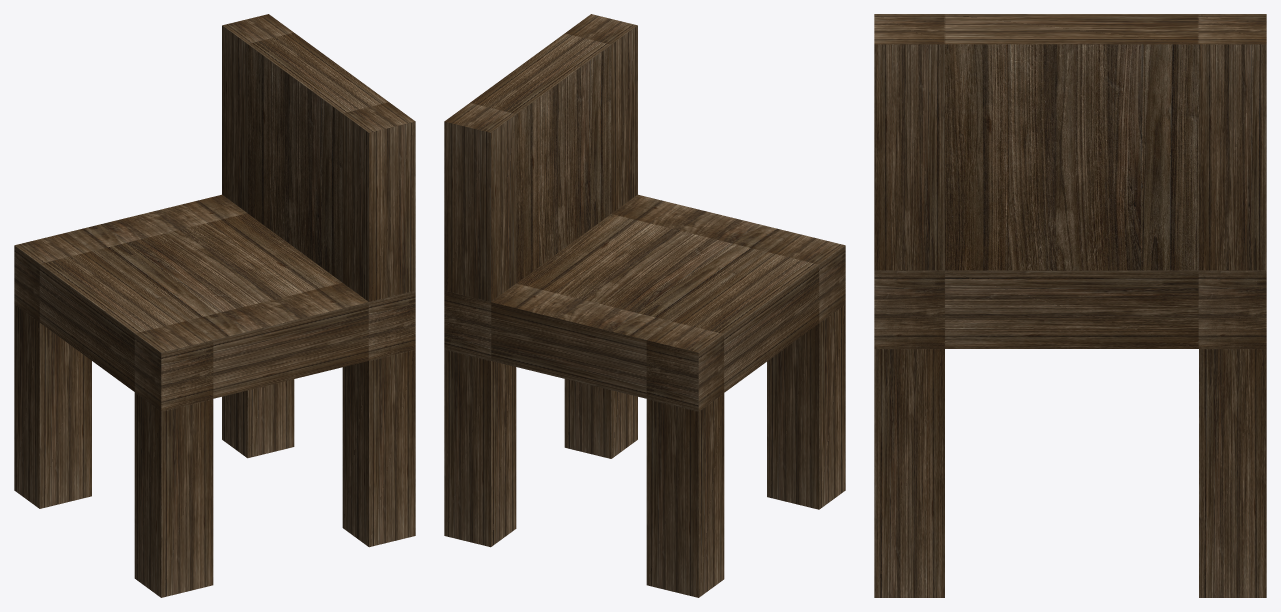
The model's file is sandalye.obj.
The picture shows the model from 3 angles, left to right: view 1: azimuth 30°, elevation 25°; view 2: azimuth 150°, elevation 25°; view 3: azimuth 270°, elevation 25°; orthographic projection. The views are drawn at different scales.
Visible parts, largest first — view 1: Cube; view 2: Cube; view 3: Cube.
Part boxes in pixels (bbox=[...]): Cube: bbox=[14, 14, 415, 597]; Cube: bbox=[444, 14, 845, 597]; Cube: bbox=[874, 14, 1266, 597].
Bounding box in the file's own units: 2 × 3.11 × 2.
Materials: 1 (1 with a texture image).
